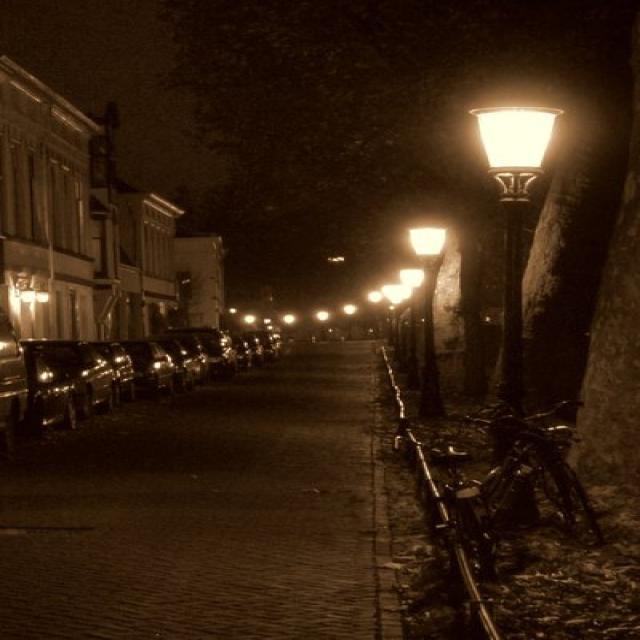Bicycle: (402, 396, 611, 567)
car: (15, 329, 121, 423), (0, 297, 50, 456), (184, 320, 308, 383), (111, 330, 194, 395)
